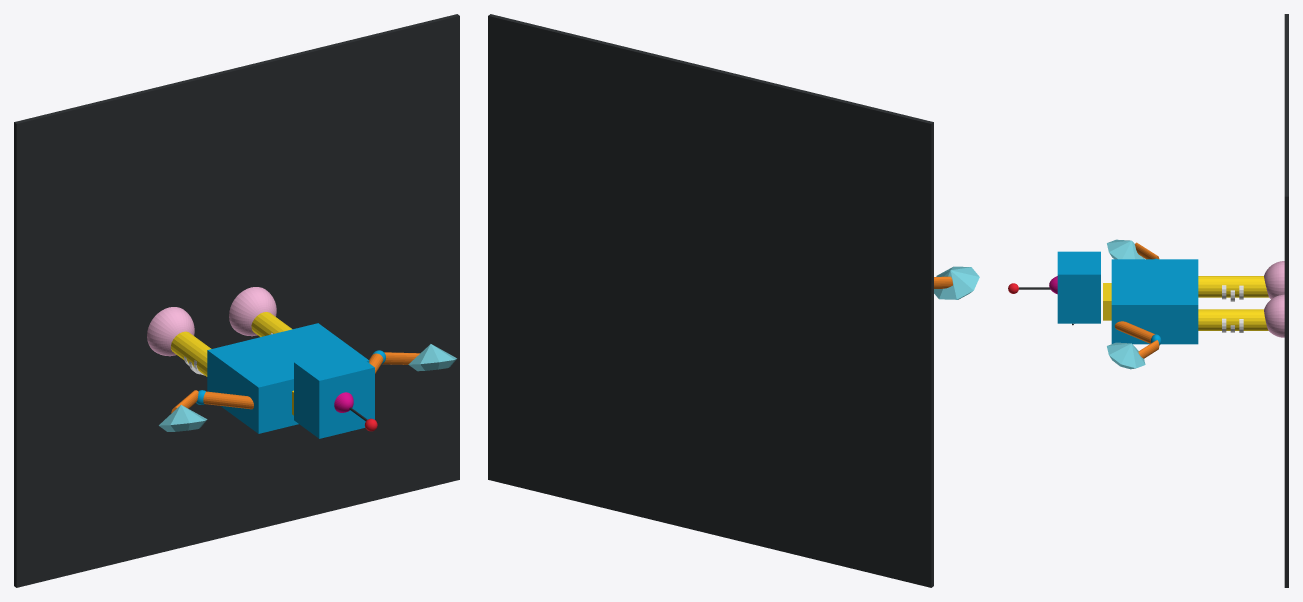
File: tinker.obj
The picture shows the model from 3 angles, left to right: view 1: azimuth 30°, elevation 25°; view 2: azimuth 150°, elevation 25°; view 3: azimuth 270°, elevation 25°; orthographic projection. The views are drawn at different scales.
Parts seen in each view (by area): view 1: group_0_2829873, group_0_40919, group_0_15708628, group_0_16768282, group_0_7720667, group_0_16089887; view 2: group_0_2829873, group_0_7720667; view 3: group_0_40919, group_0_16768282, group_0_2829873, group_0_15708628, group_0_7720667, group_0_16089887, group_0_16448250.
Boxes of the visible parts, <box> form: group_0_2829873: <box>14,14,459,587</box>; group_0_40919: <box>196,323,385,438</box>; group_0_15708628: <box>147,287,276,356</box>; group_0_16768282: <box>171,312,293,415</box>; group_0_7720667: <box>159,344,456,431</box>; group_0_16089887: <box>171,352,419,413</box>; group_0_2829873: <box>488,14,933,587</box>; group_0_7720667: <box>934,266,979,299</box>; group_0_40919: <box>1057,251,1198,345</box>; group_0_16768282: <box>1103,276,1268,330</box>; group_0_2829873: <box>1019,14,1288,587</box>; group_0_15708628: <box>1264,261,1284,337</box>; group_0_7720667: <box>1107,239,1145,369</box>; group_0_16089887: <box>1114,242,1159,358</box>; group_0_16448250: <box>1073,285,1243,332</box>.
Bounding box in the file's own units: 200 × 200 × 130.
